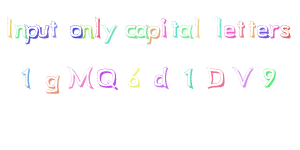1: (20, 67, 33, 89), (183, 67, 196, 89)
6: (126, 66, 142, 89)
9: (262, 66, 277, 89)
D: (205, 65, 225, 89)
I: (3, 16, 18, 40)
M: (66, 65, 95, 90)
Q: (96, 66, 120, 91)
V: (231, 65, 254, 88)
a: (179, 22, 194, 40), (134, 23, 148, 39)
c: (124, 24, 137, 39)
d: (152, 66, 170, 89)
e: (223, 23, 236, 39), (257, 23, 269, 39)
g: (44, 73, 61, 95)
i: (159, 16, 170, 38)
l: (192, 16, 205, 41), (93, 16, 103, 40), (214, 16, 223, 38)
n: (79, 23, 95, 41), (14, 24, 27, 39)
o: (68, 24, 84, 40)
p: (24, 22, 40, 46), (146, 23, 161, 46)
r: (269, 22, 279, 40)
s: (279, 21, 292, 39)
t: (48, 16, 59, 37), (170, 20, 180, 39), (236, 18, 245, 39), (248, 19, 257, 38)
u: (36, 23, 50, 40)
y: (101, 23, 117, 44)
